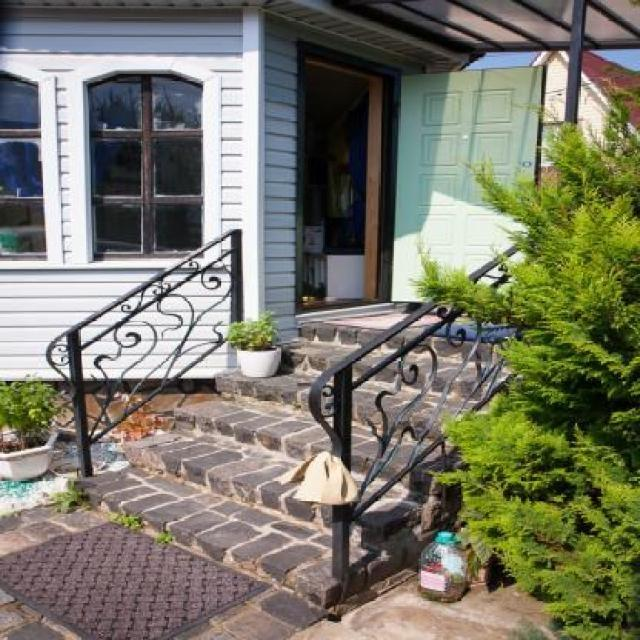stair: (66, 324, 540, 610)
